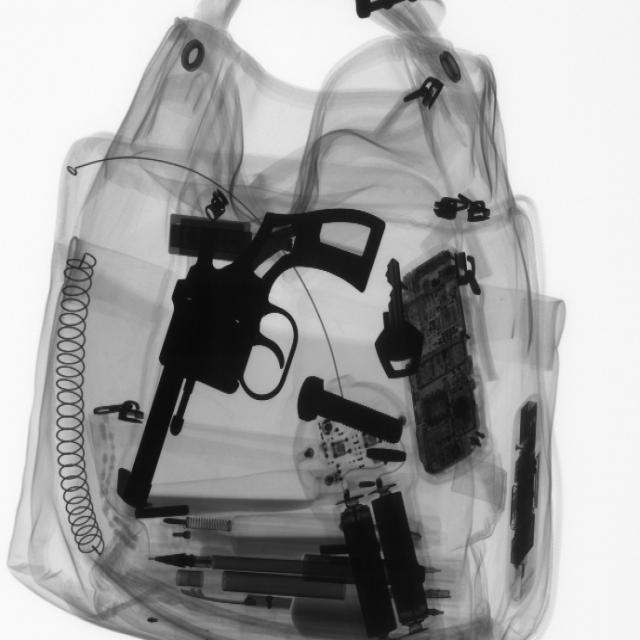GUN: (120, 212, 395, 514)
